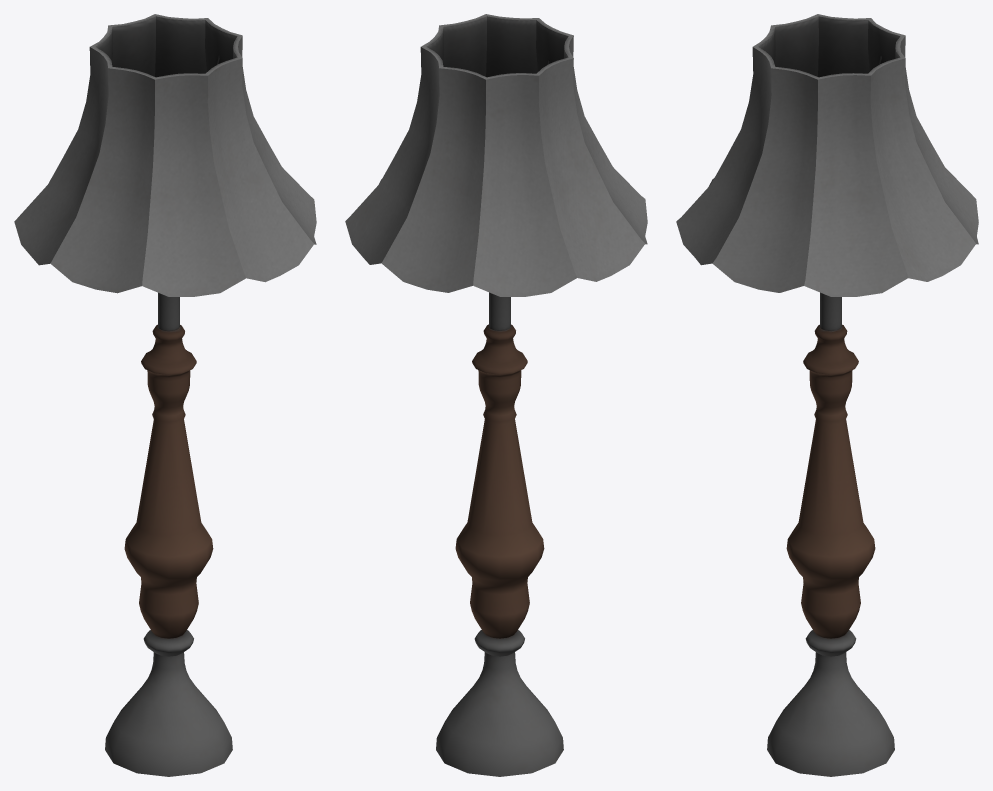
File: Lamp_03.fbx
3 renders of one model, left to right at view 1: azimuth 30°, elevation 25°; view 2: azimuth 150°, elevation 25°; view 3: azimuth 270°, elevation 25°, orthographic.
Visible parts, largest first — view 1: Lamp_1; view 2: Lamp_1; view 3: Lamp_1.
Boxes of the visible parts, left/top/right/bottom form: Lamp_1: left=14, top=14, right=316, bottom=776; Lamp_1: left=345, top=14, right=647, bottom=776; Lamp_1: left=676, top=14, right=978, bottom=776.
Size of the model in its own units: 37.25 by 94.87 by 37.
1 material, 1 textured.
